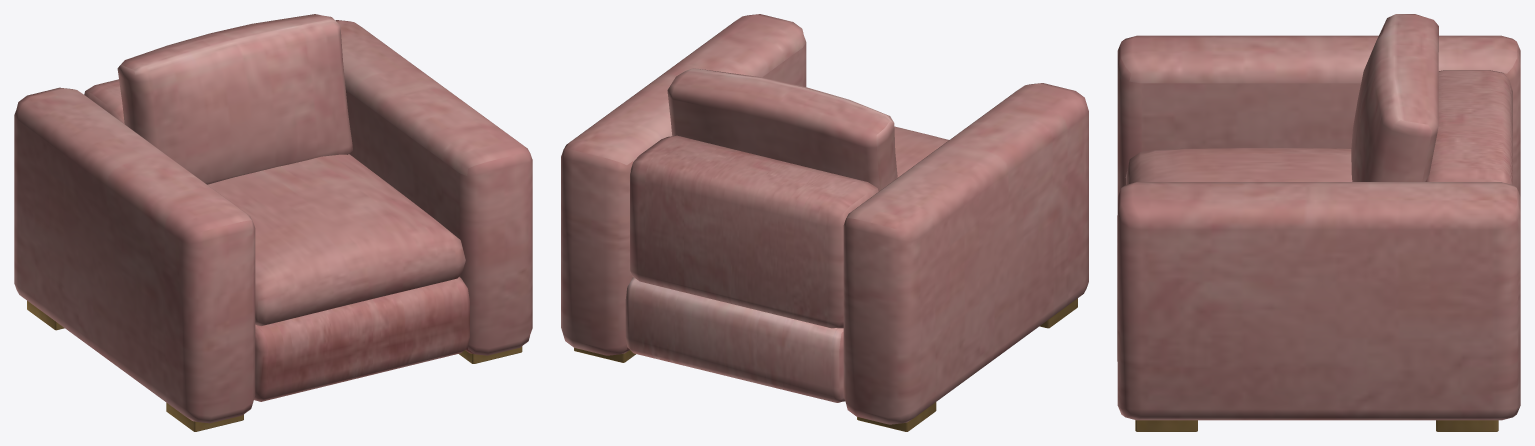
The model's file is velvetArmchair.glb.
3 views of the same model, side by side, from view 1: azimuth 30°, elevation 25°; view 2: azimuth 150°, elevation 25°; view 3: azimuth 270°, elevation 25° (orthographic). The views are drawn at different scales.
Parts seen in each view (by area): view 1: velvetArmchair; view 2: velvetArmchair; view 3: velvetArmchair.
Part boxes in pixels (x1=…): velvetArmchair: x1=14, y1=14, x2=532, y2=431; velvetArmchair: x1=561, y1=14, x2=1088, y2=431; velvetArmchair: x1=1117, y1=14, x2=1520, y2=431.
Size of the model in its own units: 0.503 by 0.3685 by 0.4687.
Materials: 1 (1 with a texture image).
